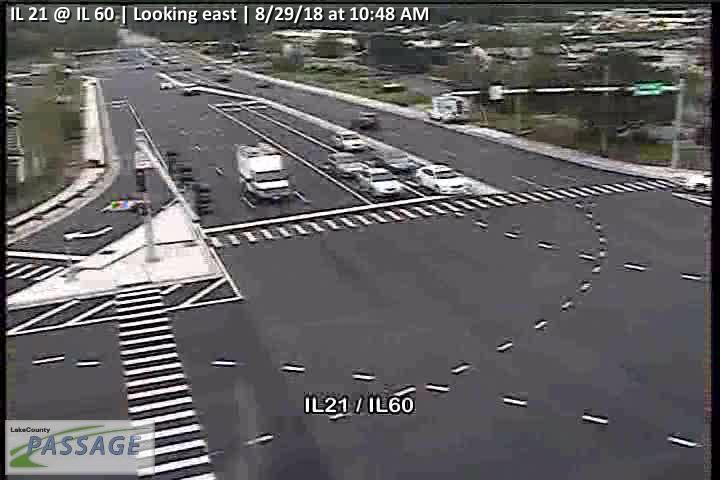Sedan: (416, 163, 471, 196), (357, 166, 403, 199), (374, 148, 415, 173), (327, 152, 363, 178), (334, 130, 367, 152)
Truck: (233, 142, 293, 203)
